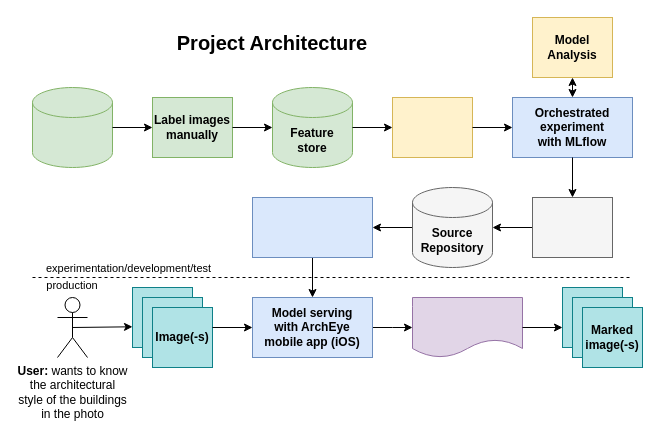
Some shapes in this 660 by 440 pixel diagram are drawn without their labels. The shapes that lost their labels are listed below. From the top down, each one's box as (x1, y1, x2, y2) in pixels, then its label:
(32, 86, 112, 168): Raw images store
(392, 96, 472, 158): Data Analysis
(252, 196, 372, 258): CI: Build, test pipeline components
(532, 196, 612, 258): Source code
(412, 296, 522, 358): Trained model (Classification)
